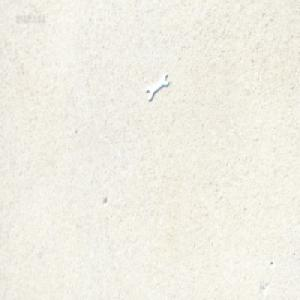Wrench: (146, 71, 169, 101)
